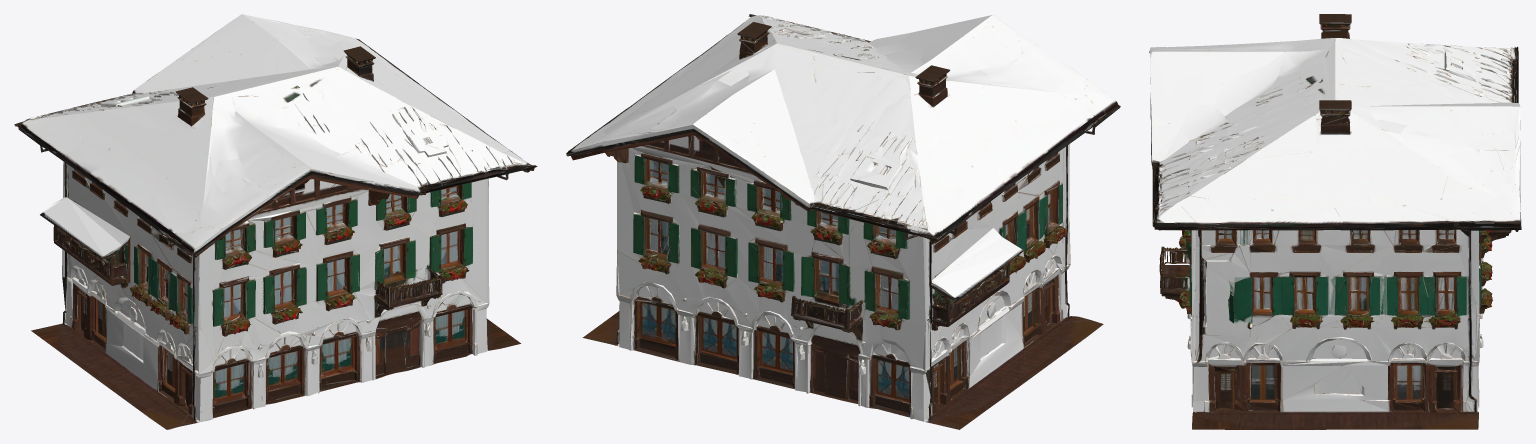
File: hotel_tyrol.glb
3 renders of one model, left to right at view 1: azimuth 30°, elevation 25°; view 2: azimuth 150°, elevation 25°; view 3: azimuth 270°, elevation 25°, orthographic. The views are drawn at different scales.
Size of the model in its own units: 1.9 by 1.35 by 1.64.
Materials: 1 (1 with a texture image).
